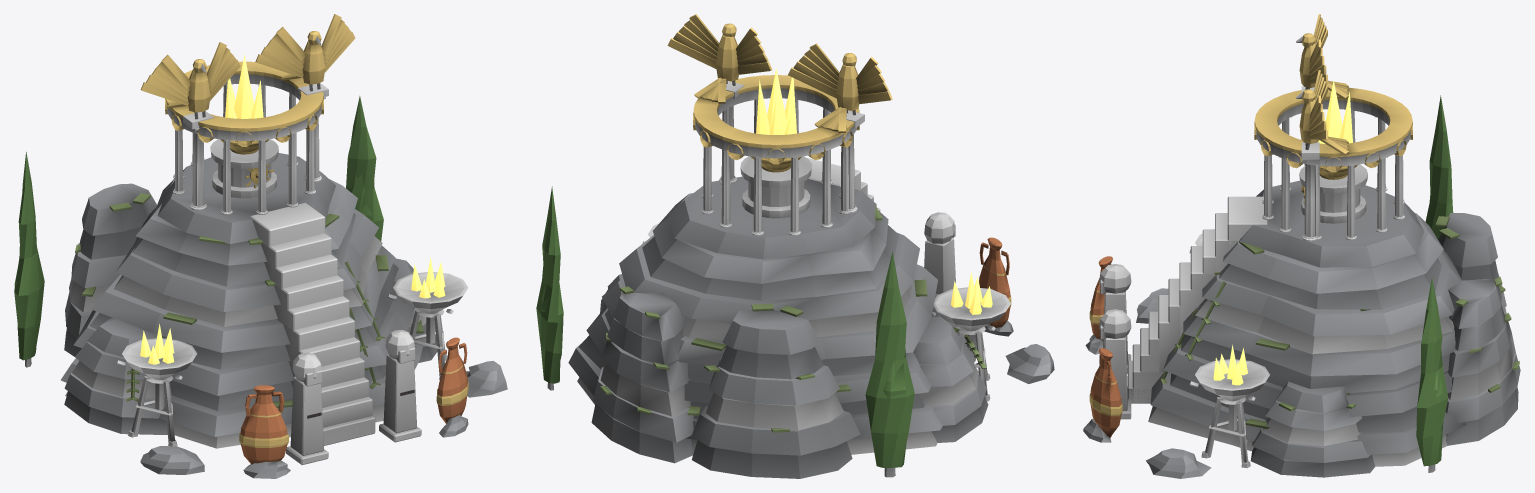
Rendered from altar-of-olympus-l3.glb.
3 renders of one model, left to right at view 1: azimuth 30°, elevation 25°; view 2: azimuth 150°, elevation 25°; view 3: azimuth 270°, elevation 25°, orthographic. The views are drawn at different scales.
Visible parts, largest first — view 1: altar-of-olympus-l3; view 2: altar-of-olympus-l3; view 3: altar-of-olympus-l3.
Part boxes in pixels (x1,y1,x2,y2): altar-of-olympus-l3: [14, 14, 507, 478]; altar-of-olympus-l3: [536, 14, 1054, 478]; altar-of-olympus-l3: [1083, 14, 1520, 478].
Size of the model in its own units: 1.48 by 1.31 by 1.54.
